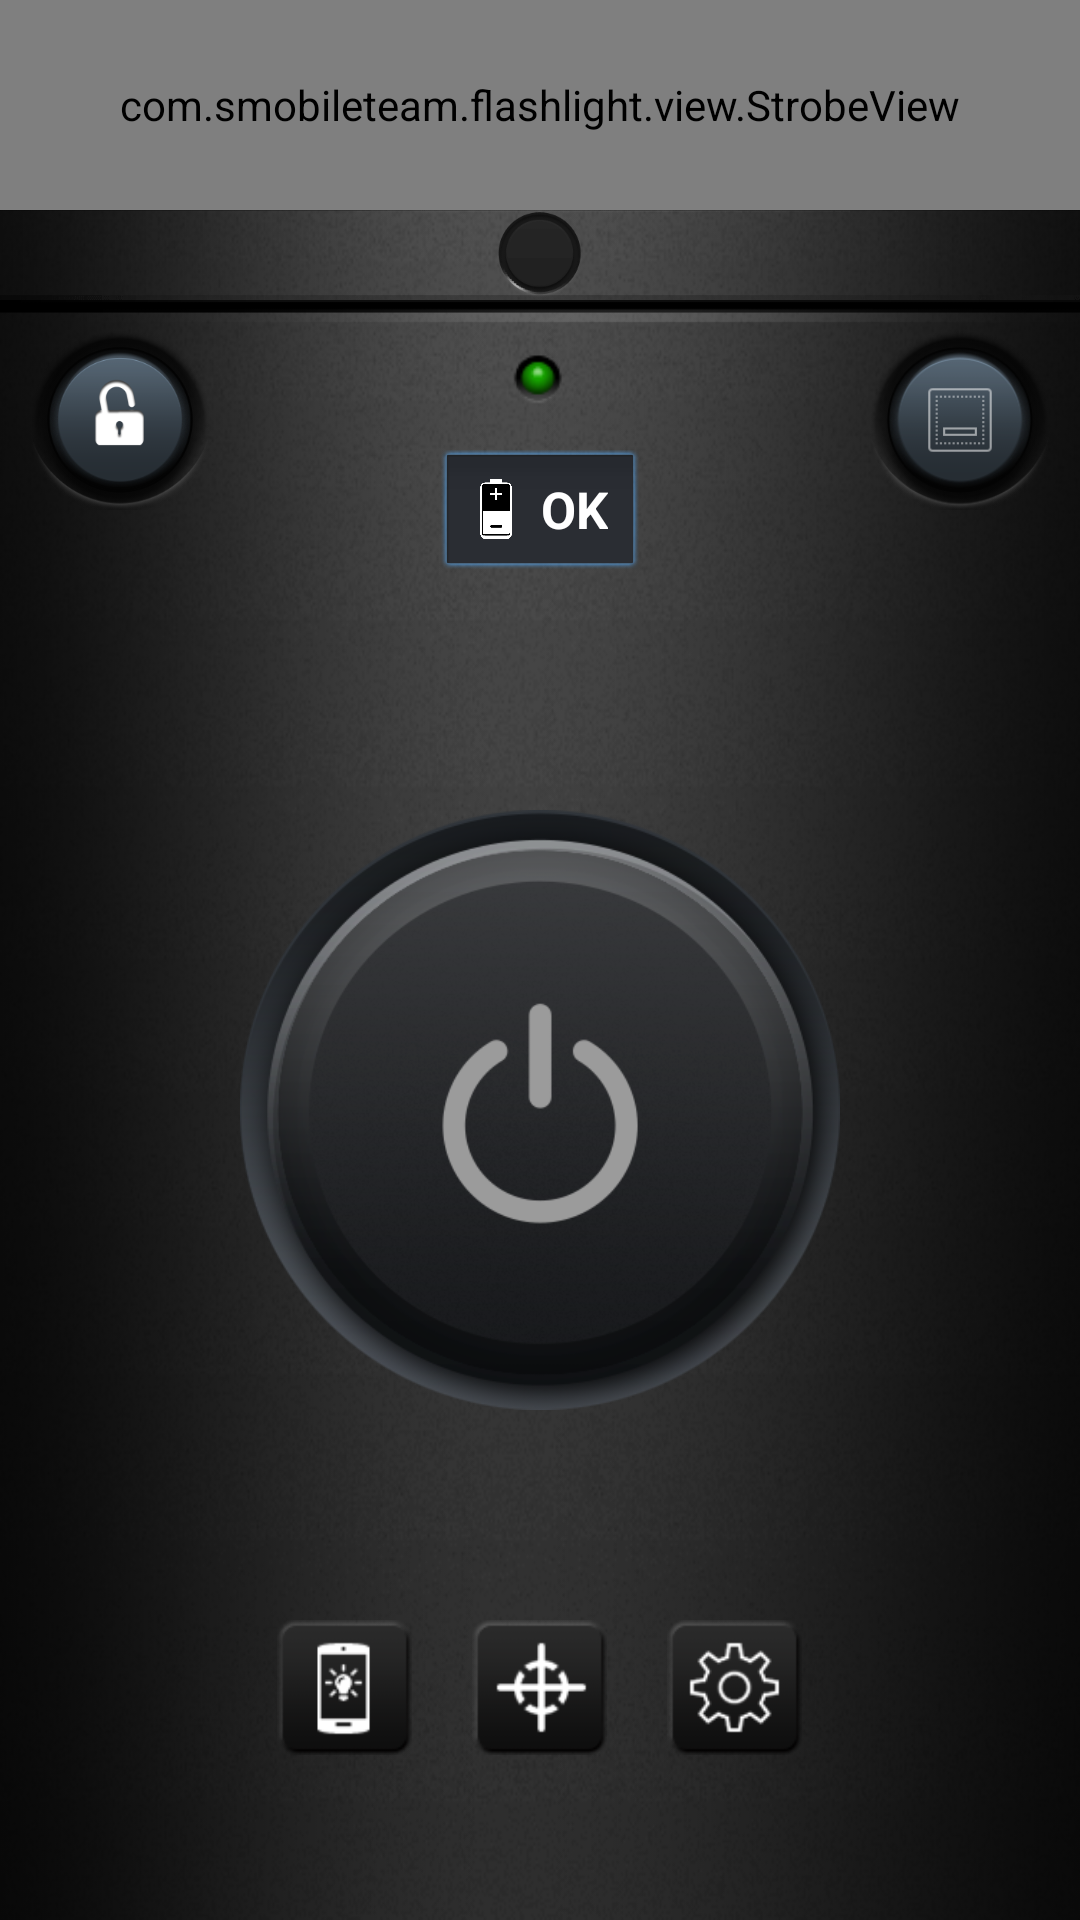

Locate icon controls on the screen. Image size 1080 × 1920, boxes as [left=x1, top=y1, right=x2, bottom=y2].
battery: [left=480, top=479, right=512, bottom=539]
lock: [left=51, top=354, right=206, bottom=505]
screenlight: [left=283, top=1622, right=407, bottom=1752]
setting: [left=669, top=1620, right=794, bottom=1751]
